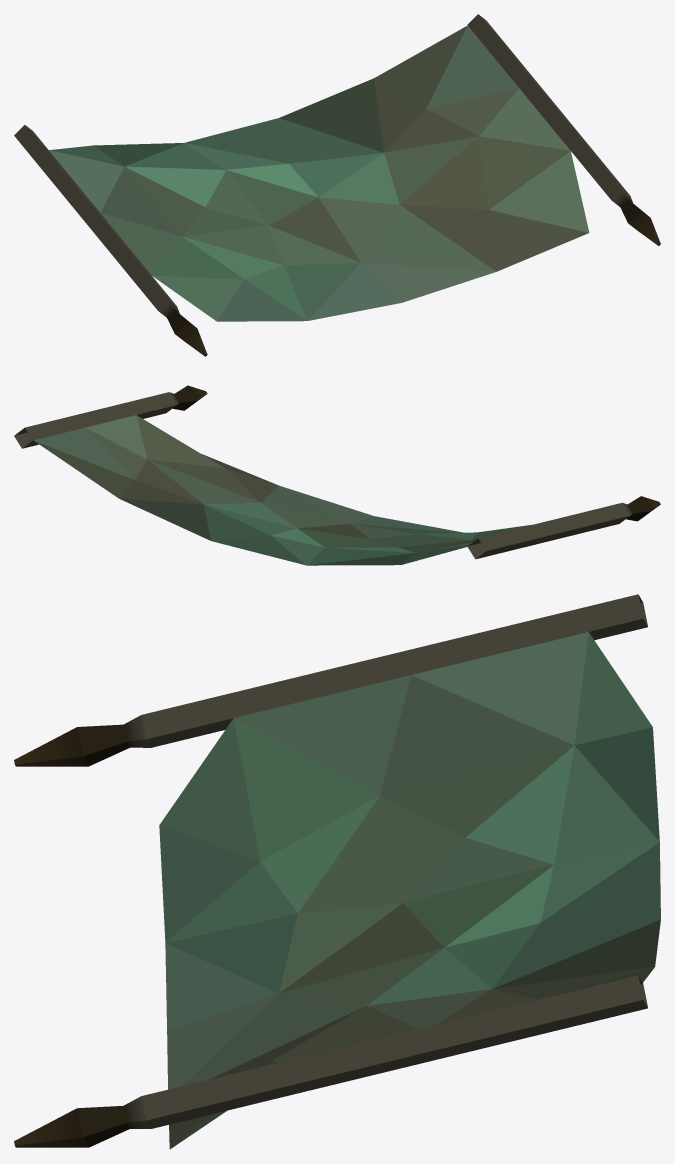
File: Prop_OverhangC.fbx
3 views of the same model, one above another, from view 1: azimuth 30°, elevation 25°; view 2: azimuth 150°, elevation 25°; view 3: azimuth 270°, elevation 25° (orthographic). The views are drawn at different scales.
Visible parts, largest first — view 1: Prop_OverhangC; view 2: Prop_OverhangC; view 3: Prop_OverhangC.
Boxes of the visible parts, left/top/right/bottom form: Prop_OverhangC: left=14, top=14, right=660, bottom=356; Prop_OverhangC: left=14, top=385, right=660, bottom=565; Prop_OverhangC: left=14, top=594, right=660, bottom=1149.
Size of the model in its own units: 251 by 69 by 172.
